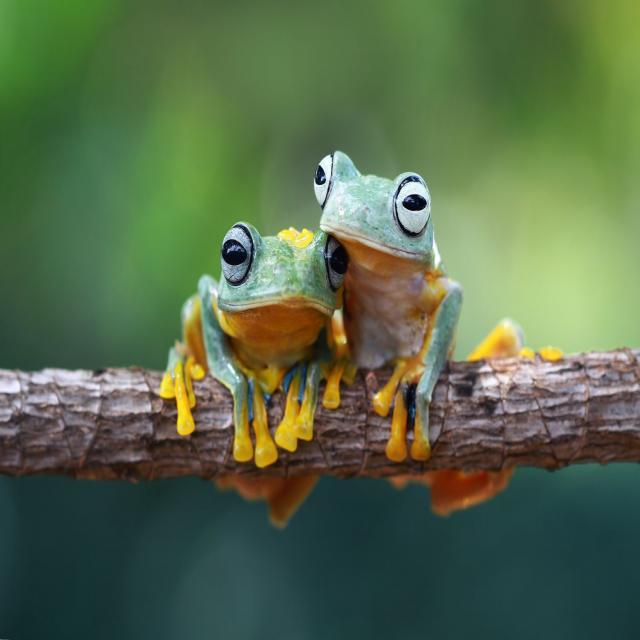Animals: (182, 140, 462, 368)
